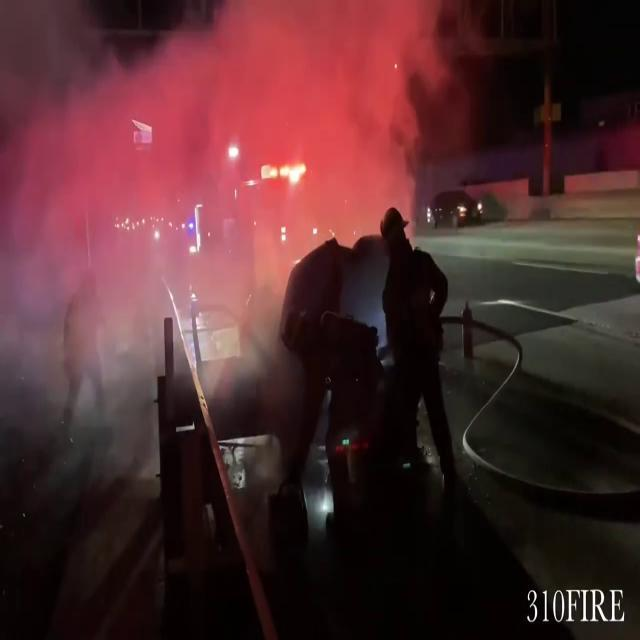Smoke: (1, 0, 467, 381)
